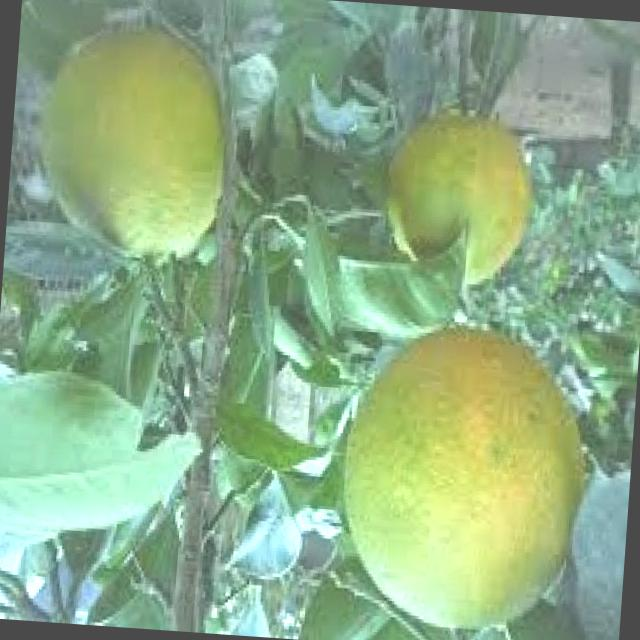Orange: (318, 307, 610, 640), (29, 8, 239, 270), (363, 100, 544, 294)
